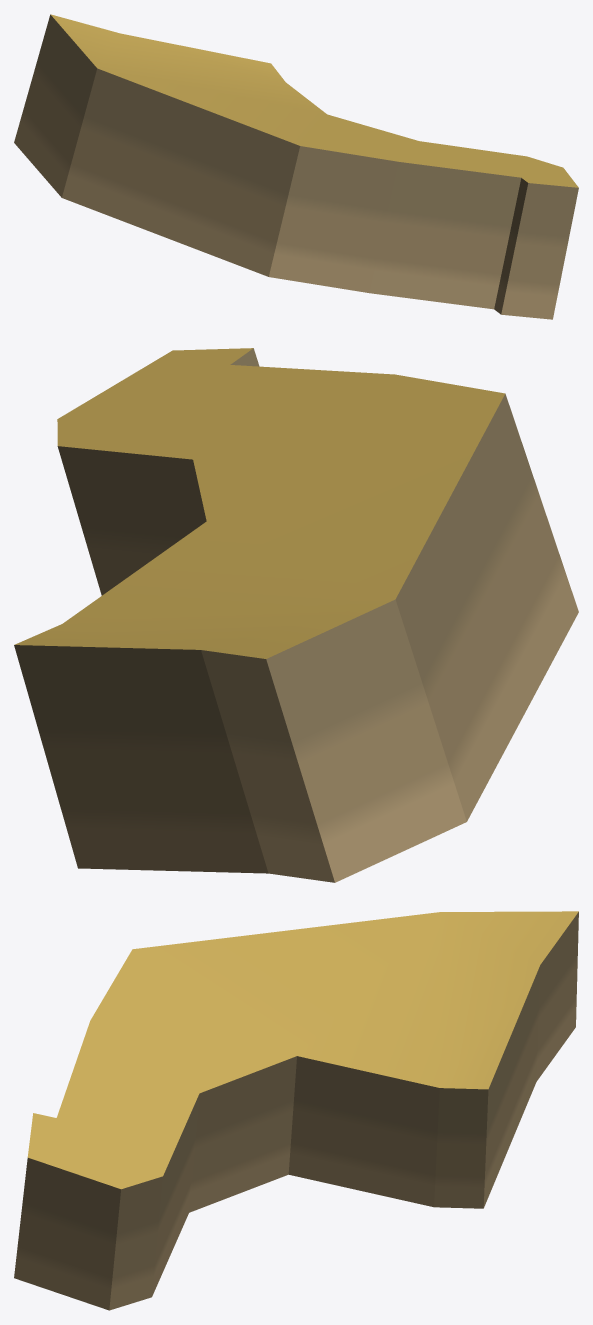
The model's file is 0644_Congo.glb.
3 renders of one model, top to bottom at view 1: azimuth 30°, elevation 25°; view 2: azimuth 150°, elevation 25°; view 3: azimuth 270°, elevation 25°, orthographic. The views are drawn at different scales.
Visible parts, largest first — view 1: part_0; view 2: part_0; view 3: part_0.
Part boxes in pixels (box(x1,y1,x2,y2)): part_0: box(14, 14, 578, 319); part_0: box(14, 348, 578, 882); part_0: box(14, 911, 578, 1310).
Size of the model in its own units: 0.6148 by 0.3298 by 0.708.
Materials: 1 (1 with a texture image).
